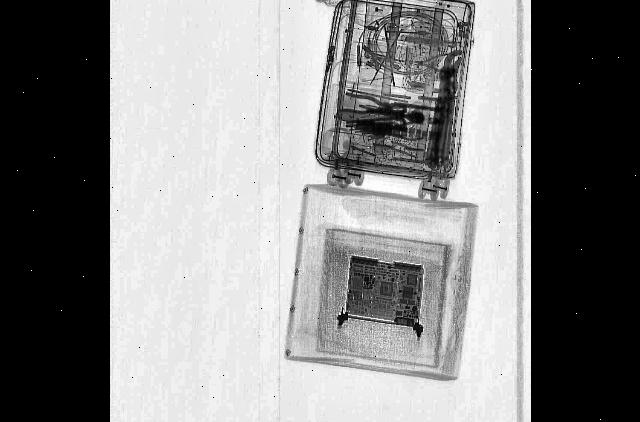Pliers: (336, 90, 394, 120), (414, 53, 448, 72)
